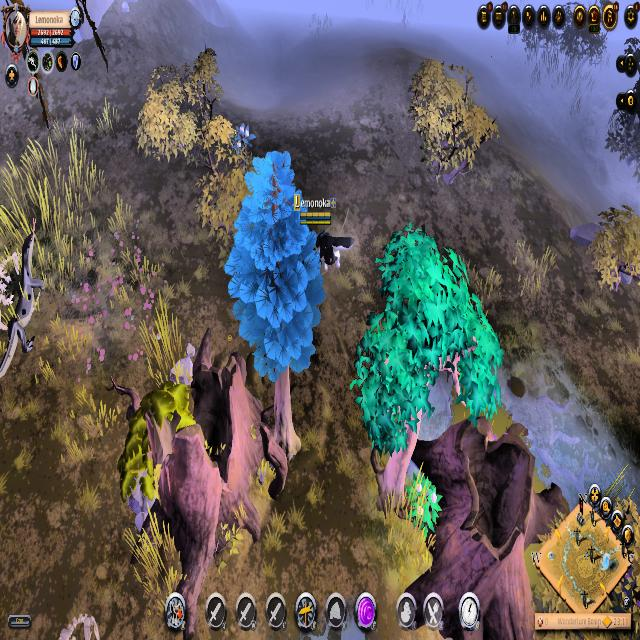fiber tier 3: (404, 470, 443, 535)
wood tier 3: (349, 220, 502, 465)
wood tier 4: (225, 150, 324, 379)
